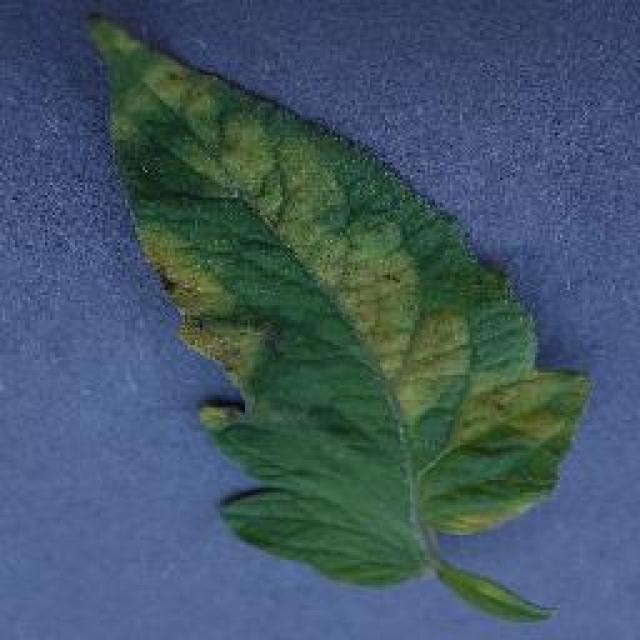Tomato___Leaf_Mold: (88, 12, 588, 620)
